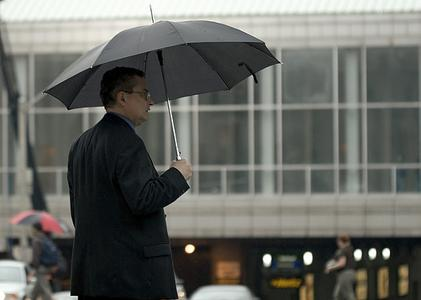person: (66, 67, 192, 300)
